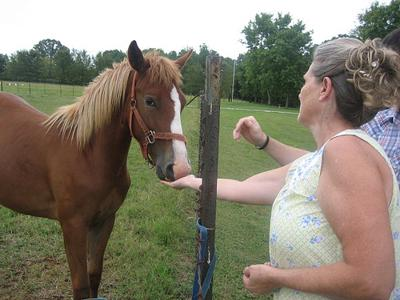person: (157, 35, 399, 300)
